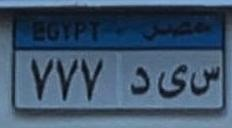7: (82, 56, 106, 100), (28, 57, 53, 99), (55, 59, 79, 100)
daal: (129, 63, 150, 96)
seen: (189, 62, 222, 94)
yaa: (157, 64, 186, 97)
